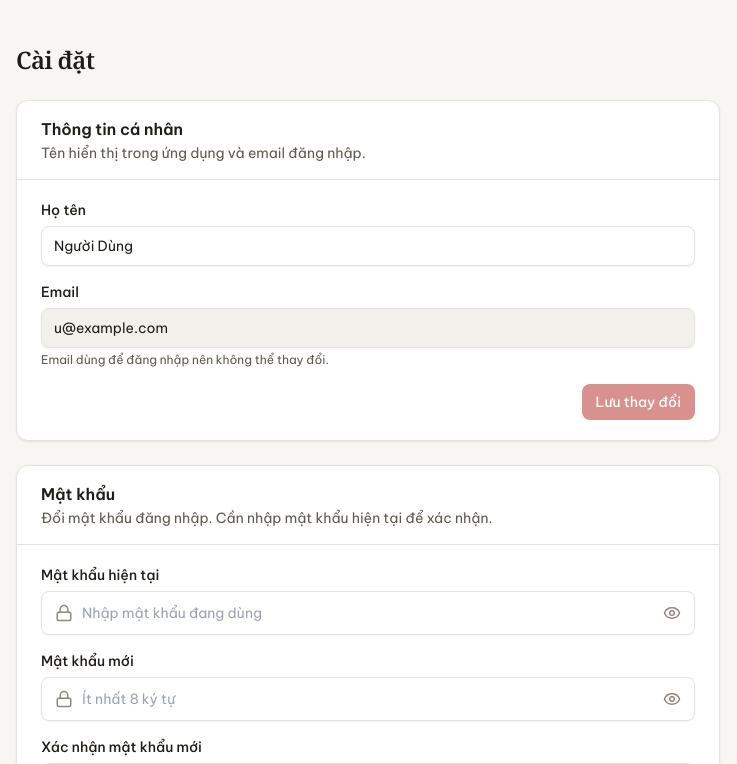
Scenario: SettingsPage — mật khẩu › sai mật khẩu hiện tại -> hiện message backend
Step 1. Type "sai" into the password field labelled "Mật khẩu hiện tại" → (368, 613), box [41,591,695,635]
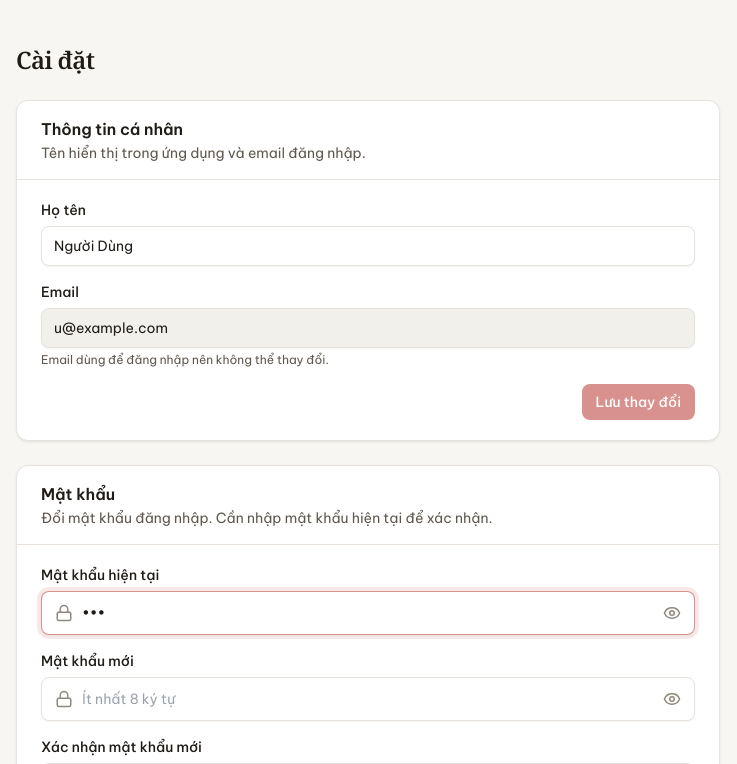
Step 2. Type "moi123456" into the password field labelled "Mật khẩu mới" → (368, 699), box [41,677,695,721]
(page scrolled)
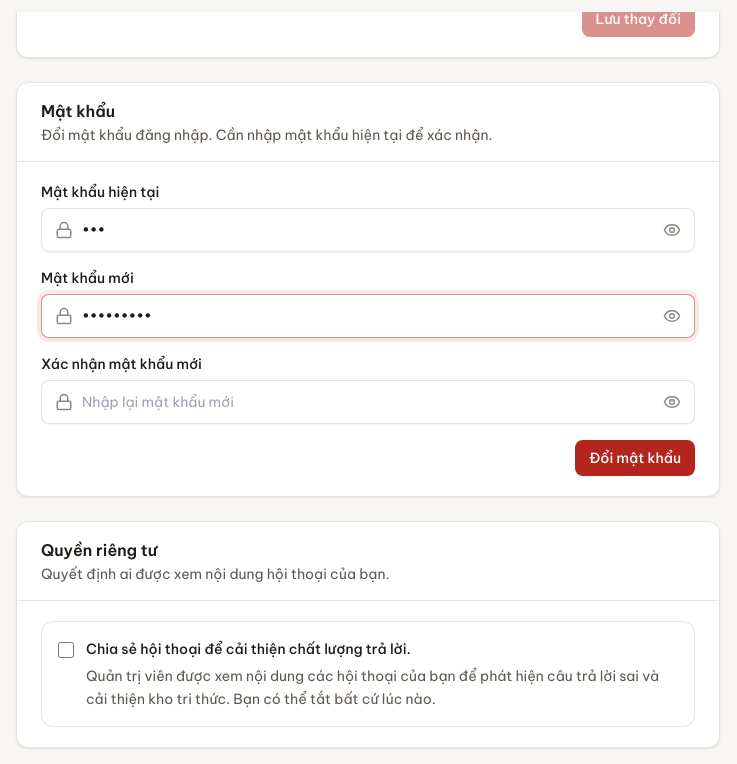
Step 3. Type "moi123456" into the password field labelled "Xác nhận mật khẩu mới" → (368, 402), box [41,380,695,424]
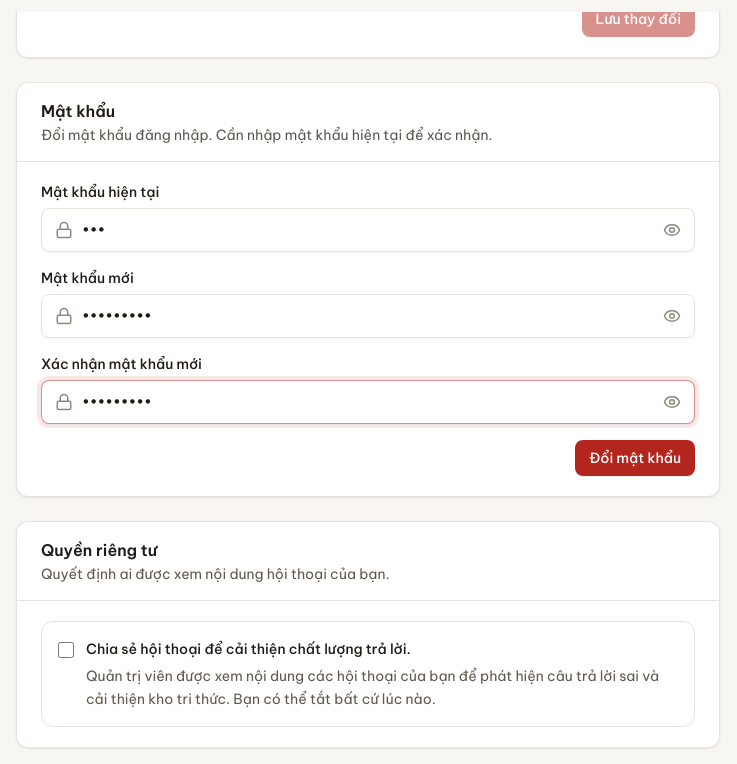
Step 4. Click the button "Đổi mật khẩu" → (635, 458), box [575,440,695,476]
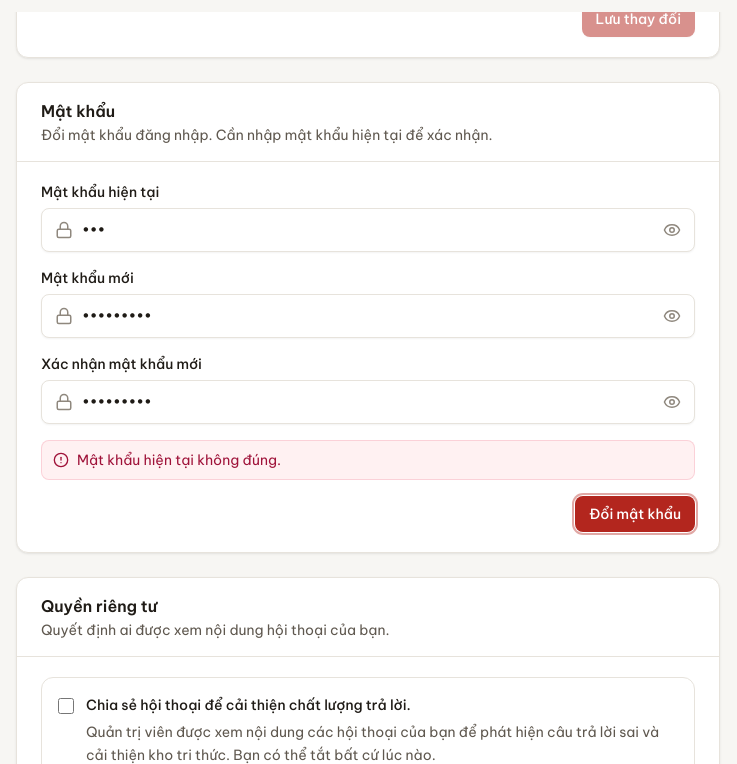
Expected: the text "Mật khẩu hiện tại không đúng." is shown, [77,450,281,470]
